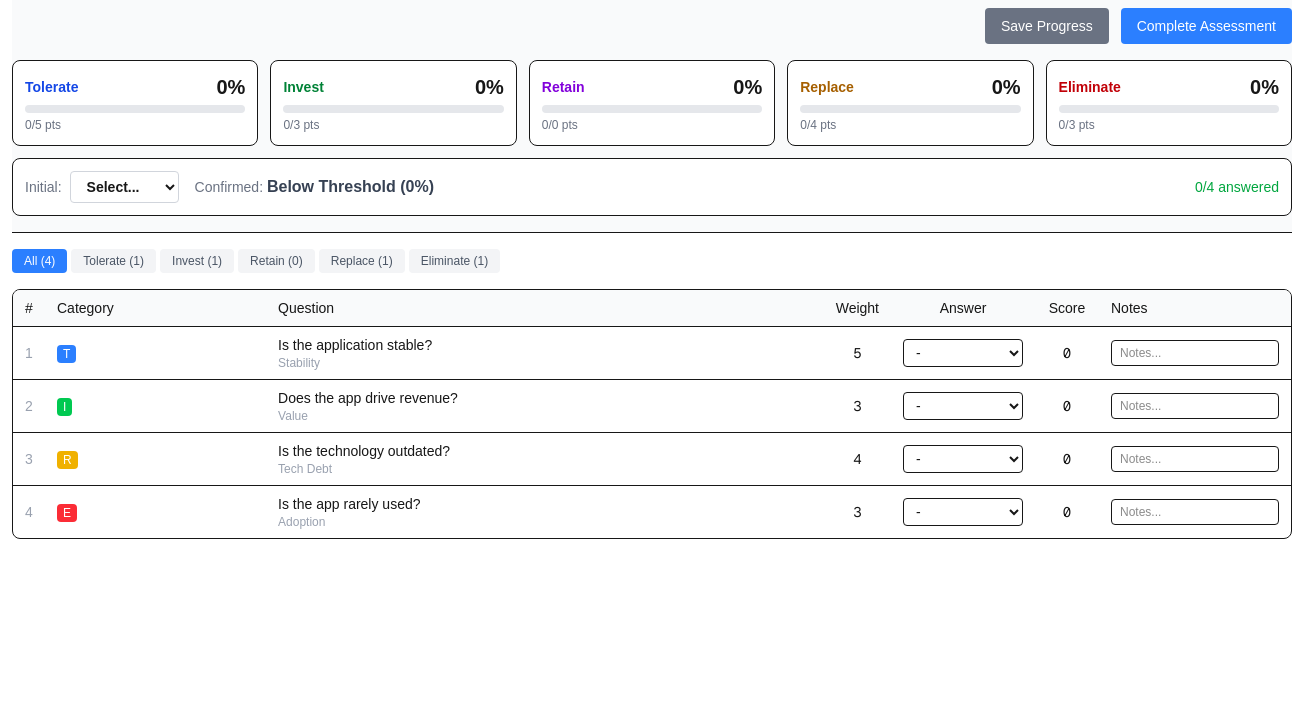
Test: StrategyQuestionsForm › filters questions by category
Note: Click Tolerate filter - find the button in the filter section
Click the button "Tolerate (1)" at x=114, y=261, box [71,249,156,273]
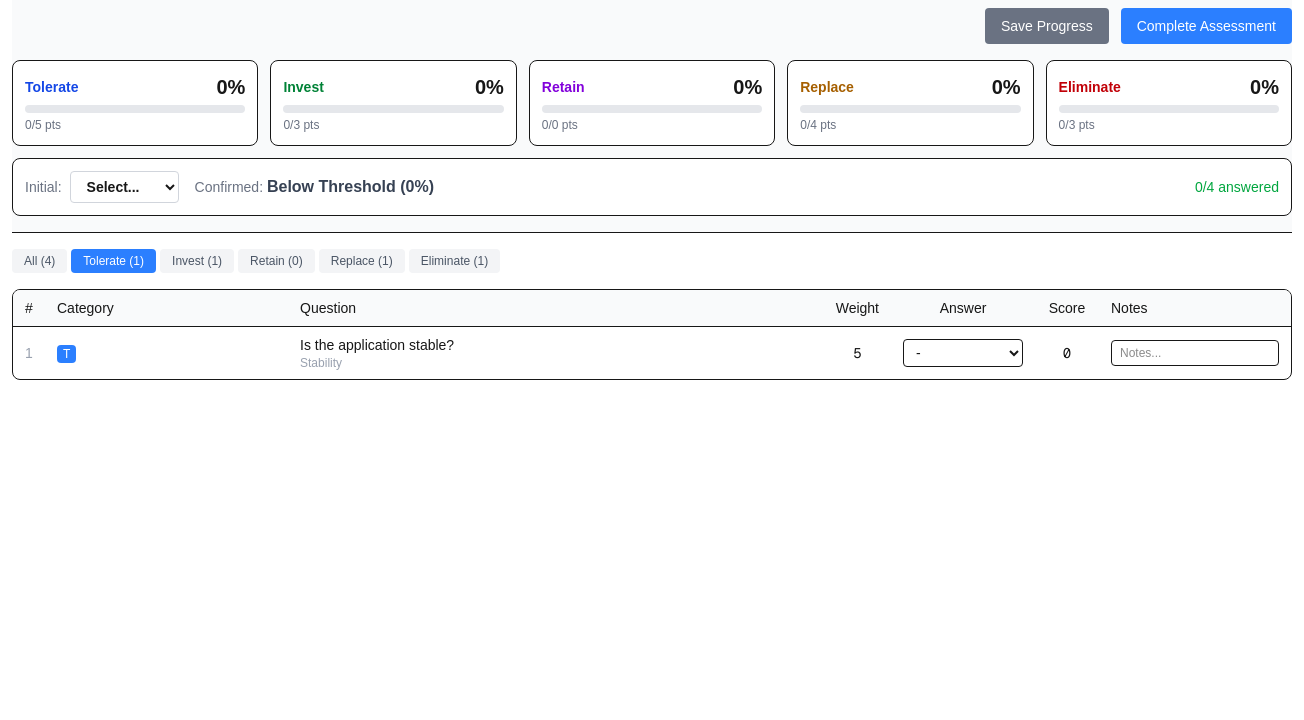
Expected: the text "Is the application stable?" is shown, [300,337,454,353]
Expected: the text "Does the app drive revenue?" is gone
